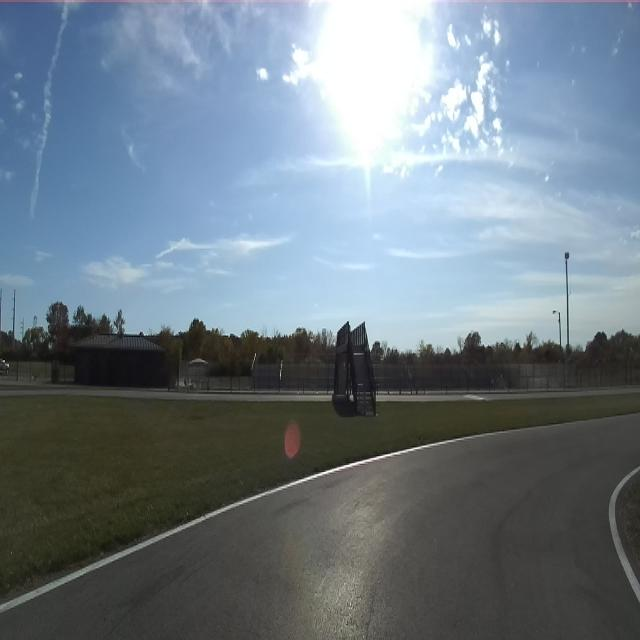white-line: (0, 426, 554, 614), (608, 466, 640, 602)
